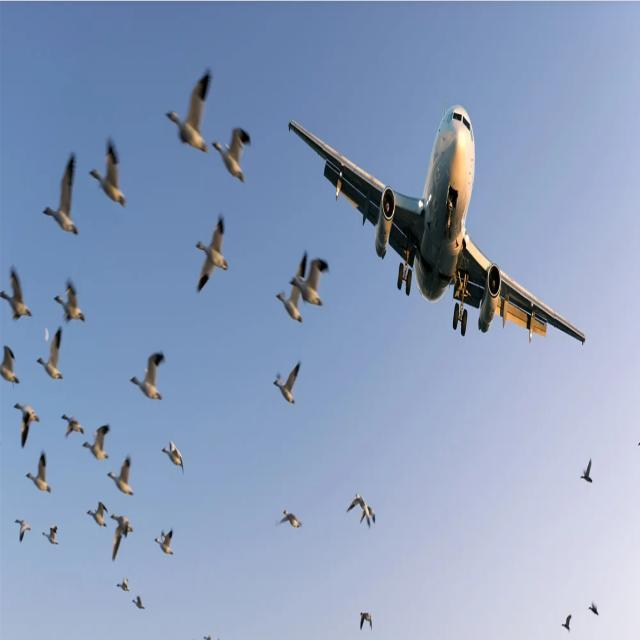bird: (162, 64, 212, 156), (213, 104, 260, 186), (43, 147, 83, 235), (90, 128, 130, 214), (194, 215, 230, 296), (294, 253, 346, 306), (128, 341, 168, 404), (0, 263, 34, 326), (36, 323, 70, 386), (270, 358, 308, 408), (52, 278, 90, 322), (0, 336, 31, 387), (24, 451, 56, 500), (270, 276, 300, 328), (12, 398, 42, 449), (110, 509, 134, 567), (161, 435, 193, 478), (84, 416, 111, 464), (107, 456, 137, 499), (277, 502, 303, 540), (84, 495, 108, 535), (42, 512, 64, 554), (353, 606, 381, 636), (154, 528, 178, 559), (60, 413, 84, 443), (349, 480, 365, 515), (14, 511, 30, 545), (588, 592, 604, 626), (580, 458, 595, 492), (559, 606, 574, 640), (361, 506, 378, 532), (132, 588, 146, 616), (114, 572, 130, 594)
